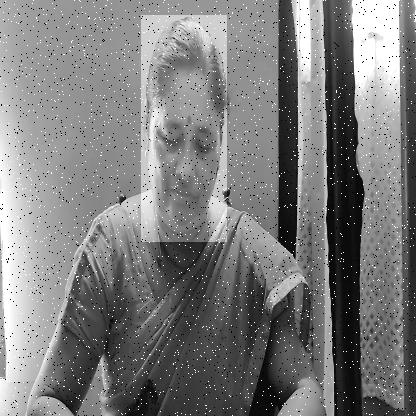Normal: (141, 15, 227, 242)
